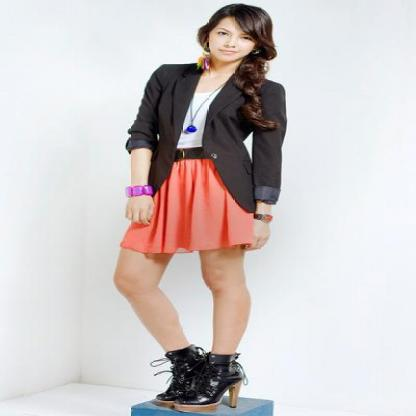jacket: (126, 63, 286, 207)
shirt: (177, 86, 219, 148)
shoe: (152, 347, 246, 415)
skirt: (120, 159, 261, 254)
